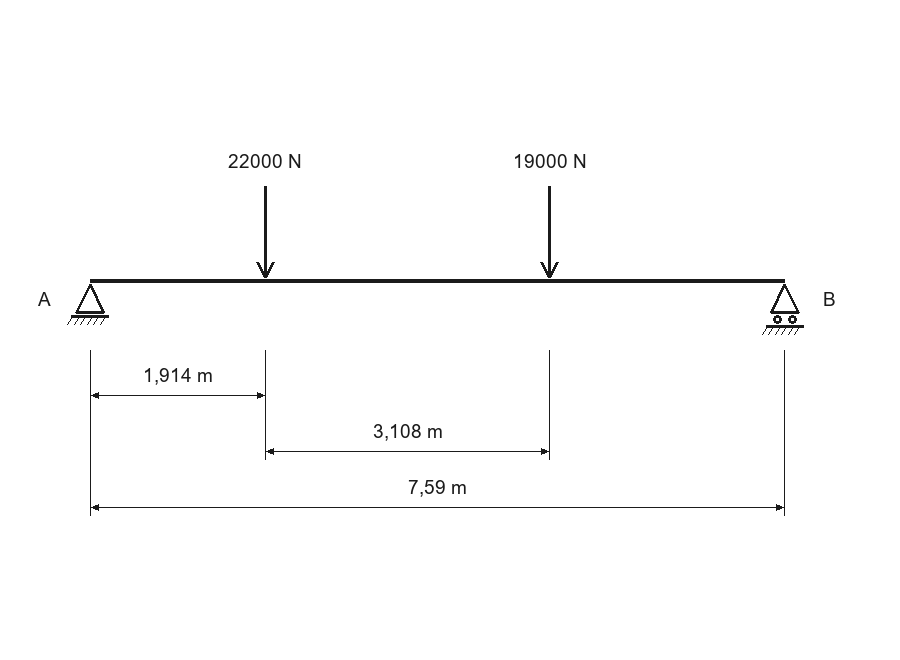pin_support: (67, 284, 109, 325)
point_load: (256, 186, 275, 278), (540, 186, 559, 278)
roller_support: (762, 284, 804, 335)
